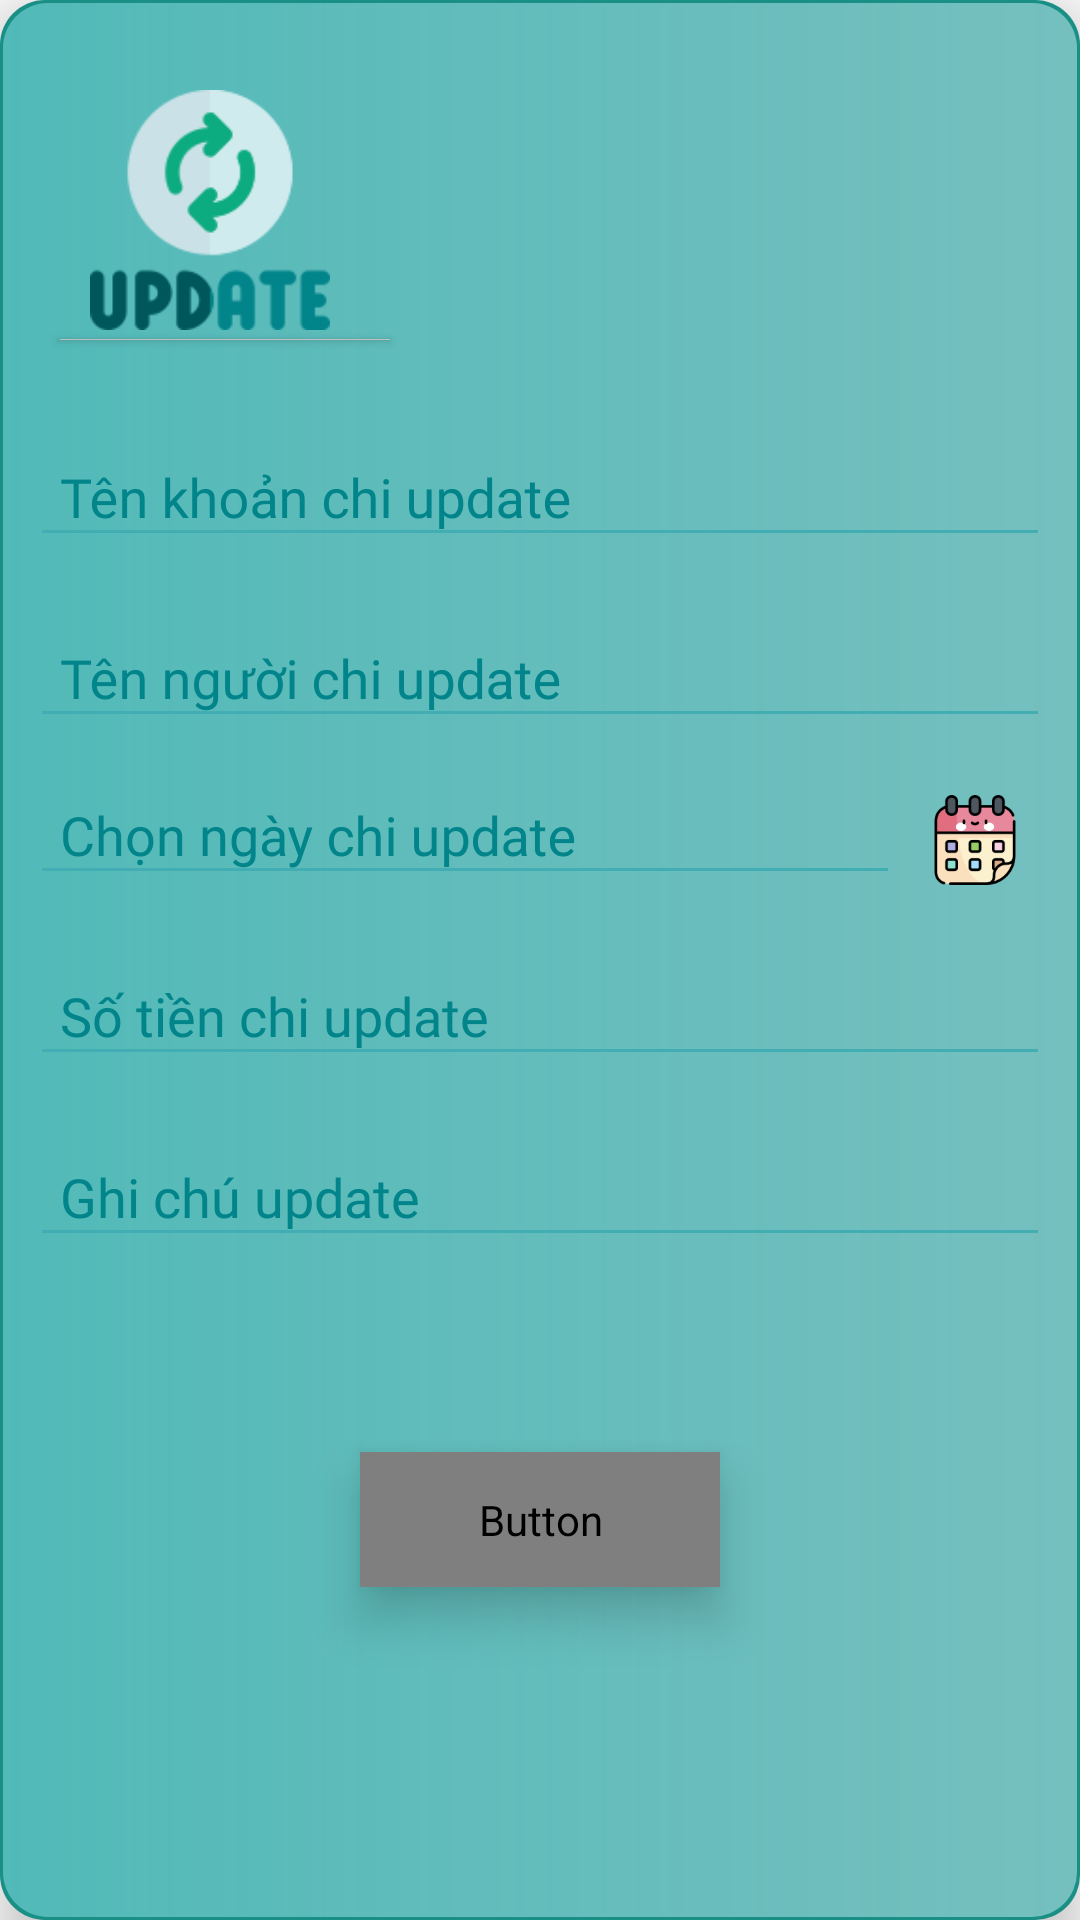

Where icons sit on this 1080 × 1920 app screen, as region(x1, y1, x2, y2):
calendar: region(934, 795, 1016, 885)
